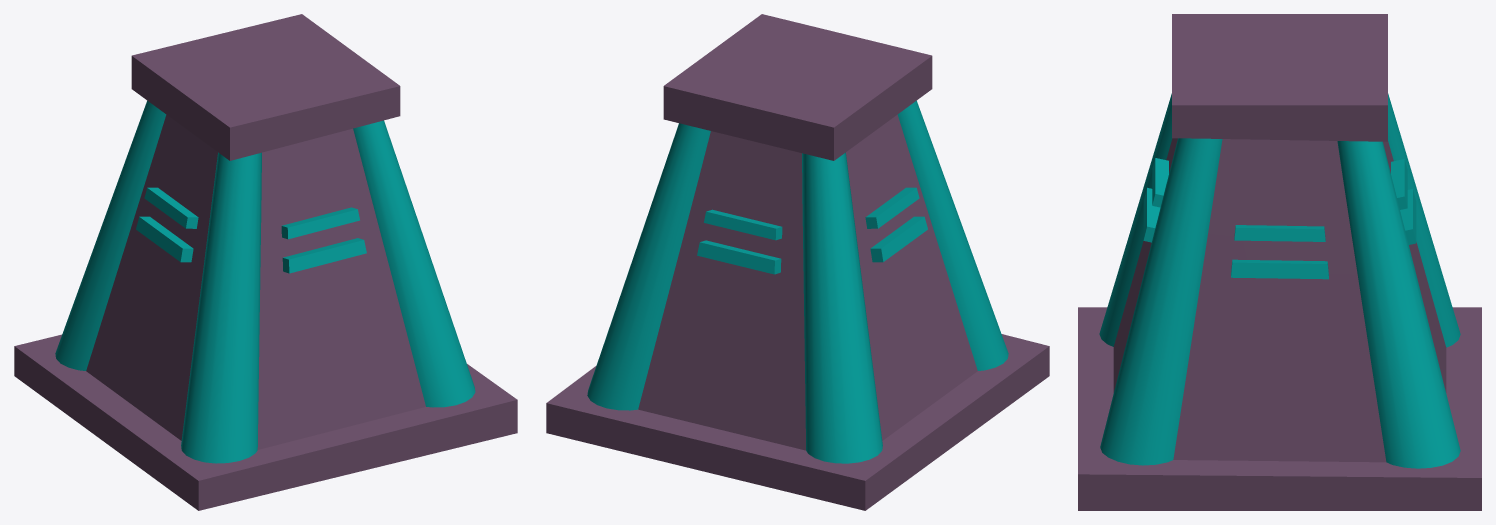
The model's file is Pedestal.fbx.
3 renders of one model, left to right at view 1: azimuth 30°, elevation 25°; view 2: azimuth 150°, elevation 25°; view 3: azimuth 270°, elevation 25°, orthographic. The views are drawn at different scales.
Parts seen in each view (by area): view 1: pCube1, pCylinder2, pCylinder1, pCylinder4; view 2: pCube1, pCylinder4, pCylinder3, pCylinder2; view 3: pCube1, pCylinder3, pCylinder1, pCylinder4, pCylinder2.
Boxes of the visible parts, x1,y1,x2,y2 form: pCube1: (14, 14, 517, 510); pCylinder2: (181, 152, 261, 463); pCylinder1: (353, 120, 475, 407); pCylinder4: (55, 100, 166, 370); pCube1: (546, 14, 1049, 510); pCylinder4: (802, 152, 882, 463); pCylinder3: (587, 123, 710, 410); pCylinder2: (897, 100, 1008, 370); pCube1: (1078, 14, 1481, 510); pCylinder3: (1337, 141, 1460, 468); pCylinder1: (1100, 138, 1222, 465); pCylinder4: (1388, 93, 1460, 347); pCylinder2: (1099, 93, 1172, 346).
Size of the model in its own units: 1 by 1 by 1.
